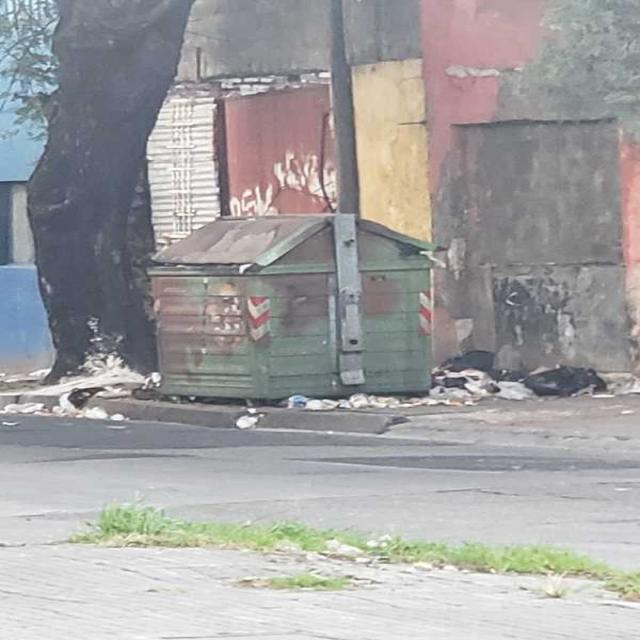garbage: (427, 344, 638, 418), (2, 366, 193, 428), (281, 392, 434, 426), (218, 387, 268, 445)
